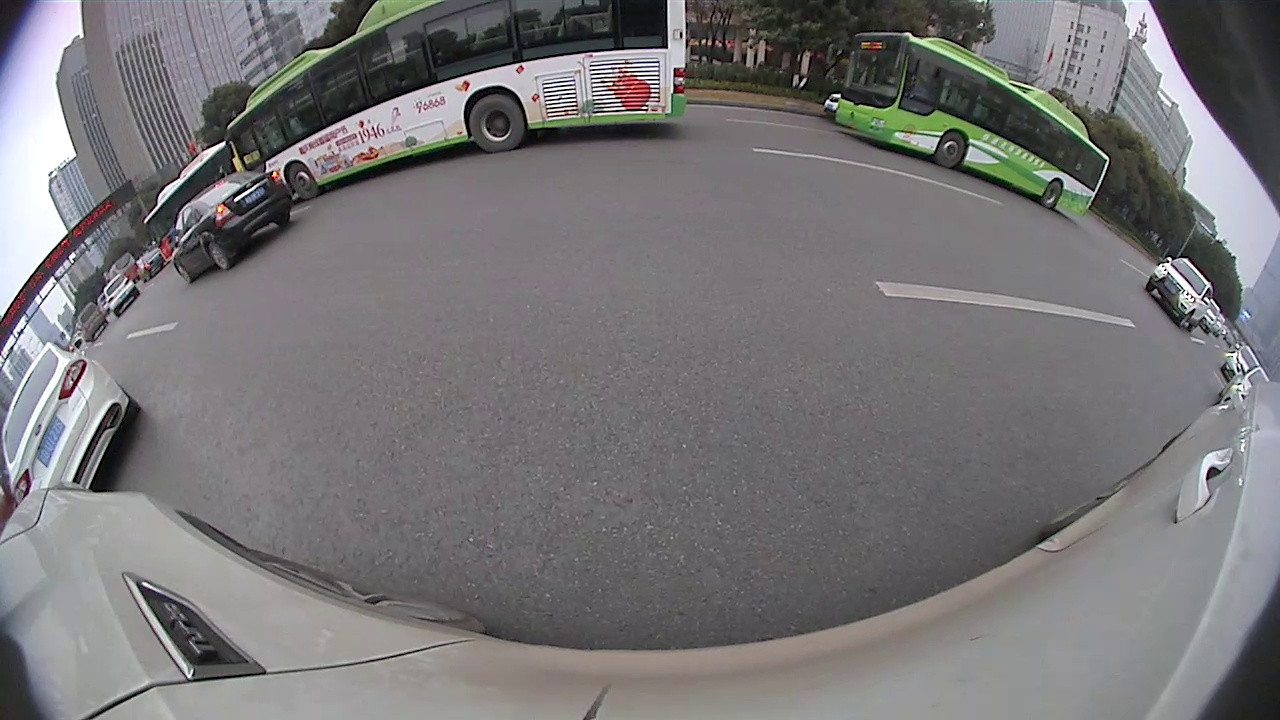bus: (220, 1, 693, 195), (829, 25, 1114, 231)
car: (0, 344, 143, 500), (170, 168, 297, 287), (1146, 254, 1216, 333)
front: (284, 162, 319, 200), (934, 129, 964, 168), (174, 261, 193, 282)
rear: (466, 93, 527, 153), (207, 240, 233, 272), (1040, 178, 1063, 208)
